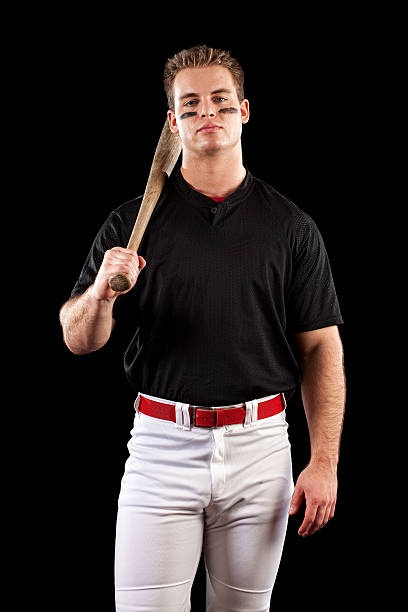bita: (104, 101, 176, 291)
